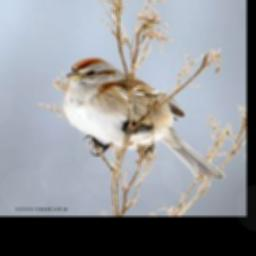Sparrow: (62, 56, 225, 179)
